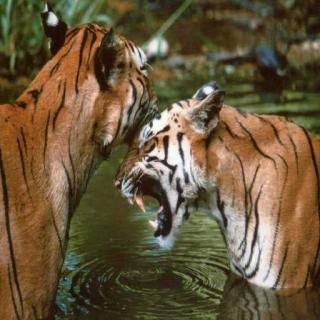Tiger: (0, 20, 161, 320), (110, 79, 320, 296)
